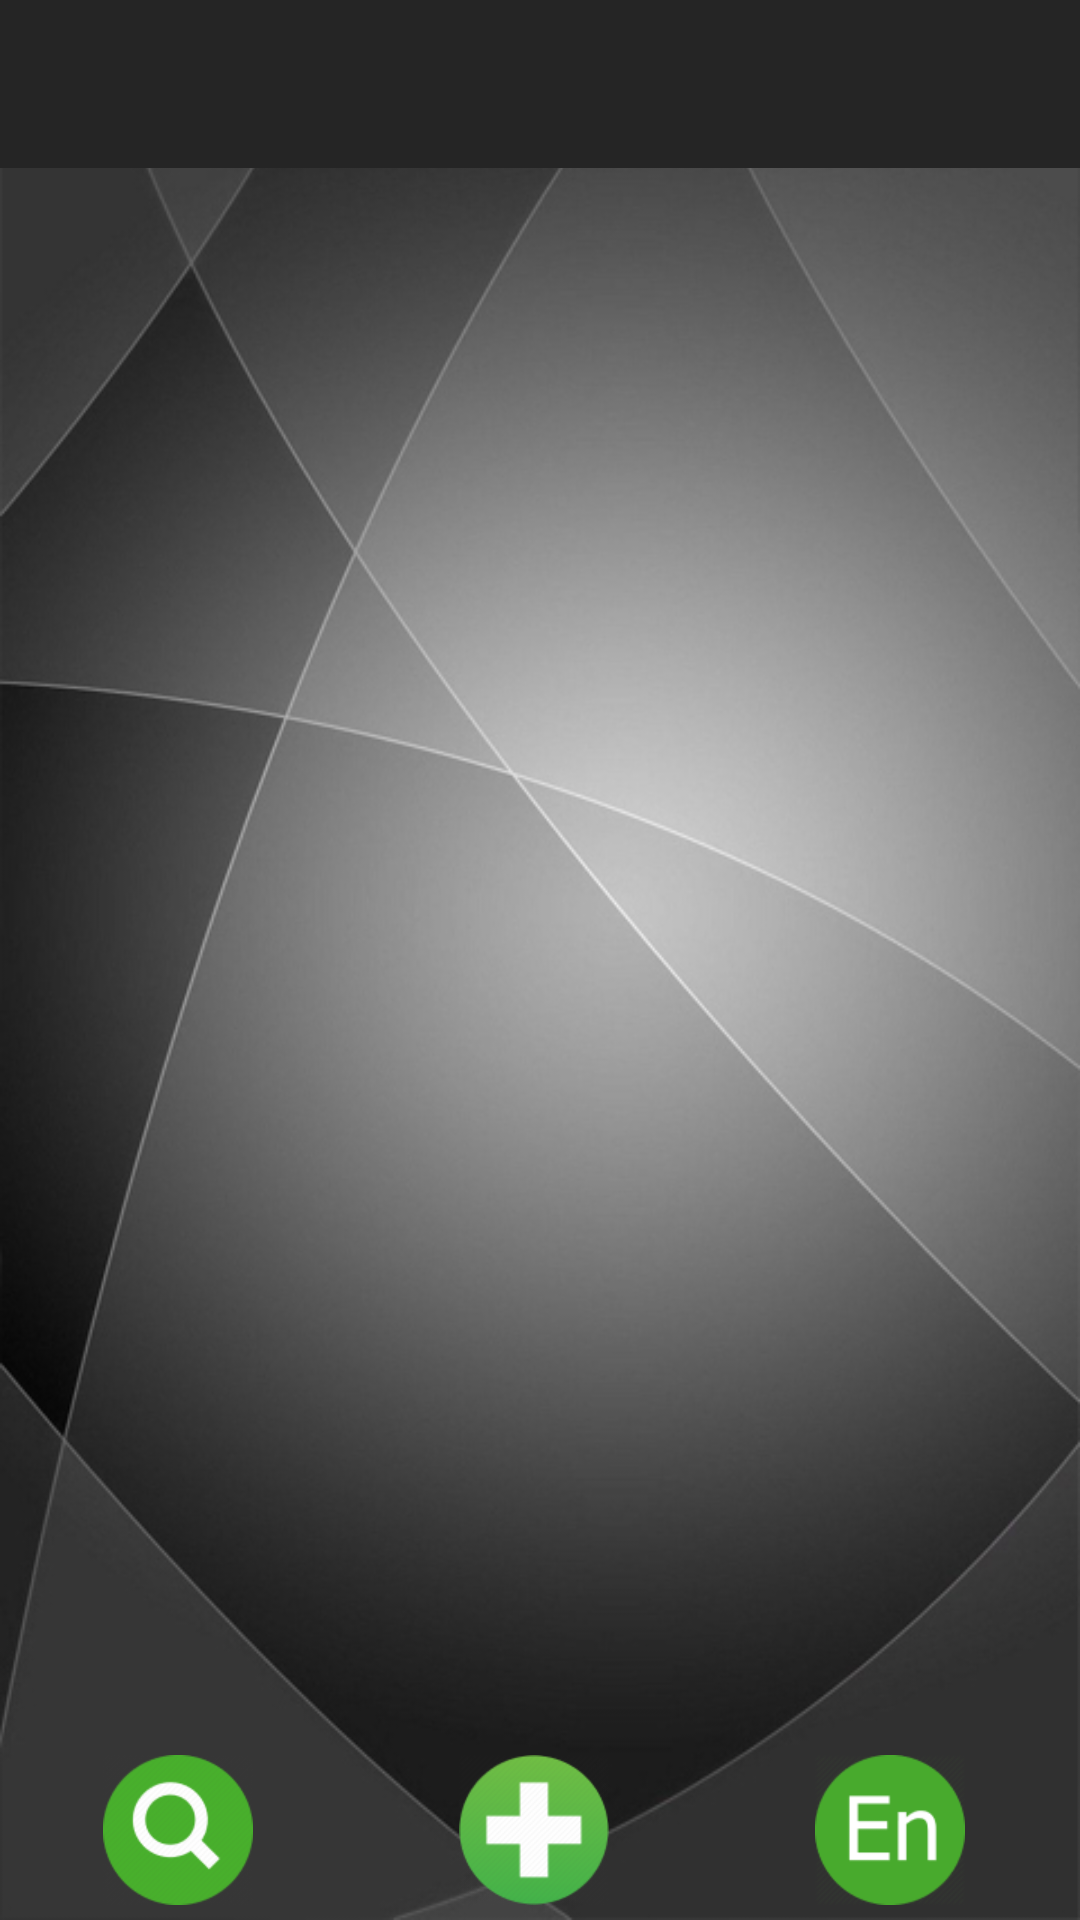

Named icons in this screenshot (1080px x 1920px) and their centers, point (x, y):
search: point (178, 1830)
